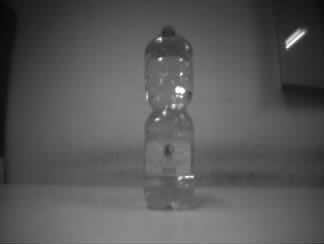Bottle: (141, 25, 197, 213)
